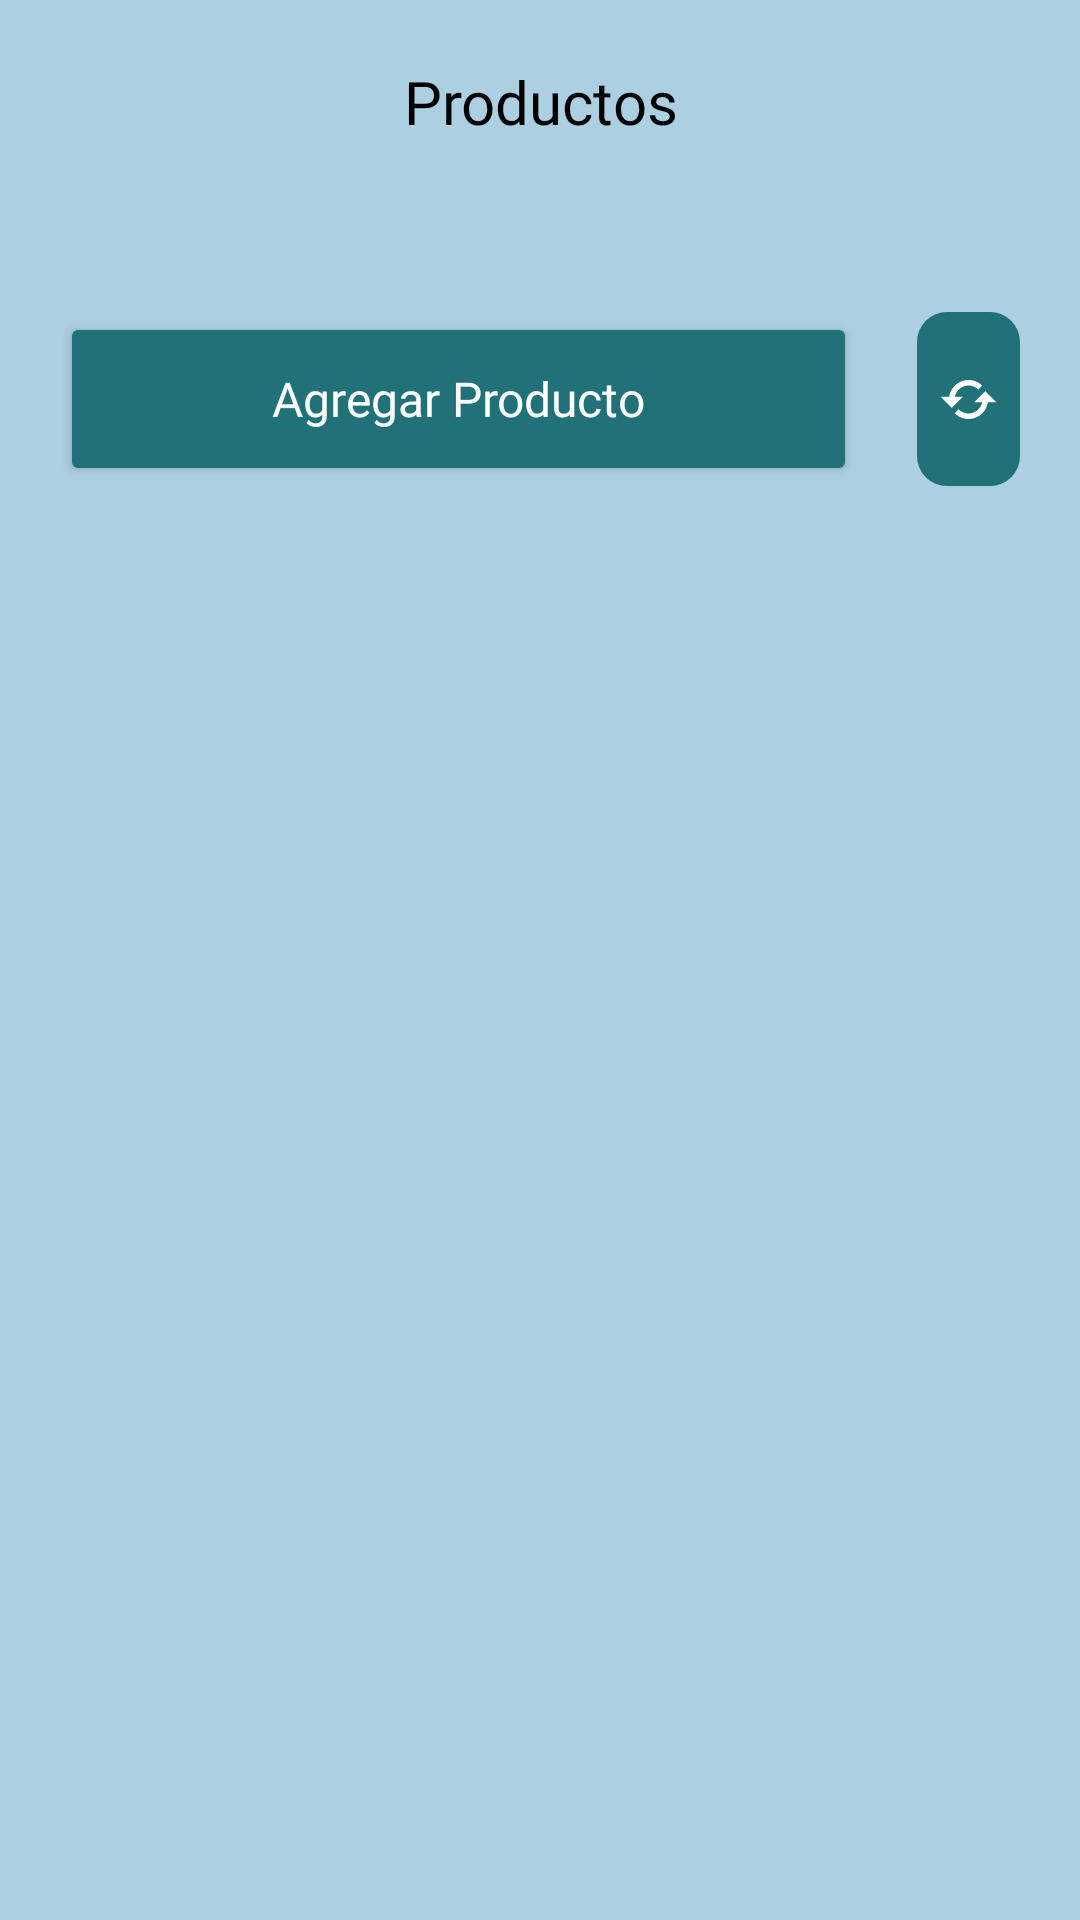

Icon click points for this 1080×1920 phone screenshot, format point (x, y):
refresh: point (968, 399)
